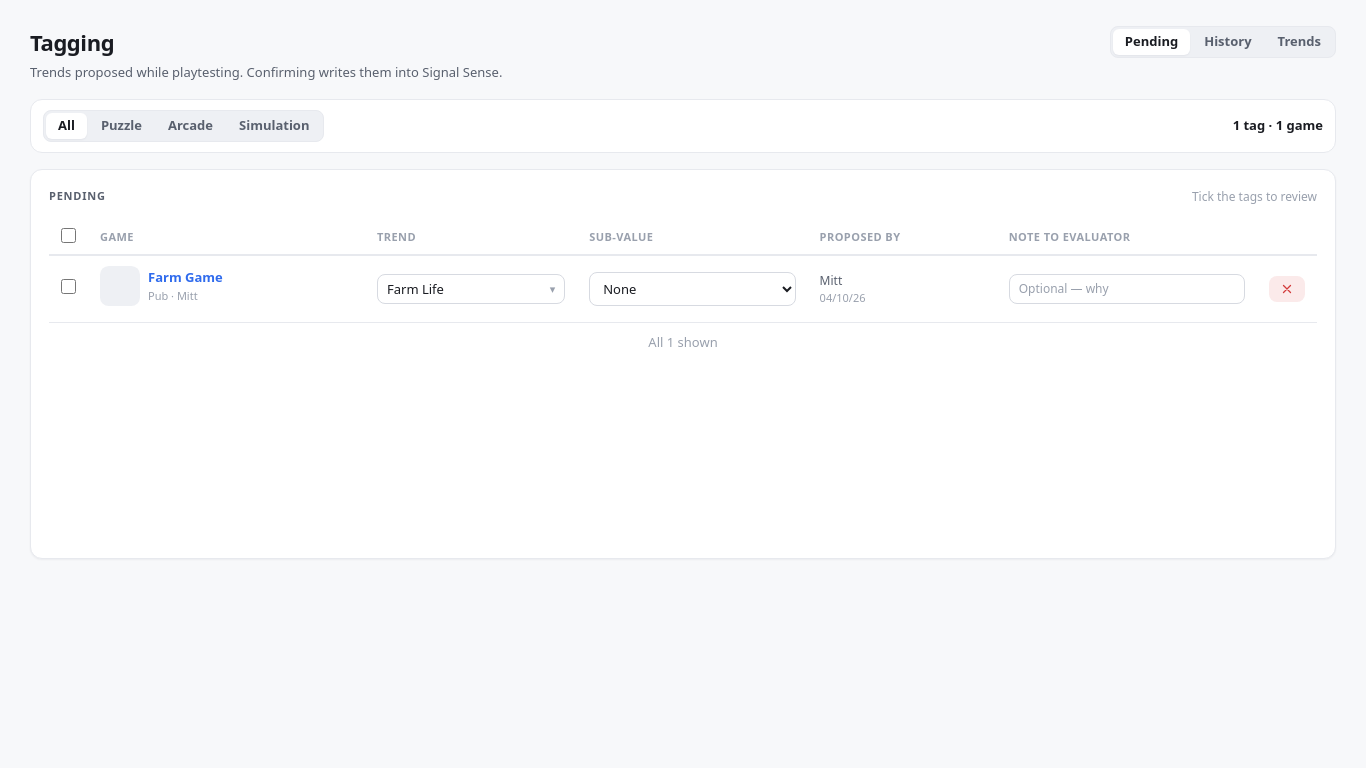
Test: Tagging > Category group filter and the selection › drops ticked rows when the category group changes
The width and height of the screenshot is (1366, 768).
Expected: the button "Farm Game" is shown, [148,268,223,288]
What coordinates should you click on to do the following:
click the checkbox named "Select Farm Life on Farm Game"
I would click on:
 (68, 286)
Its box is [61,278,76,294].
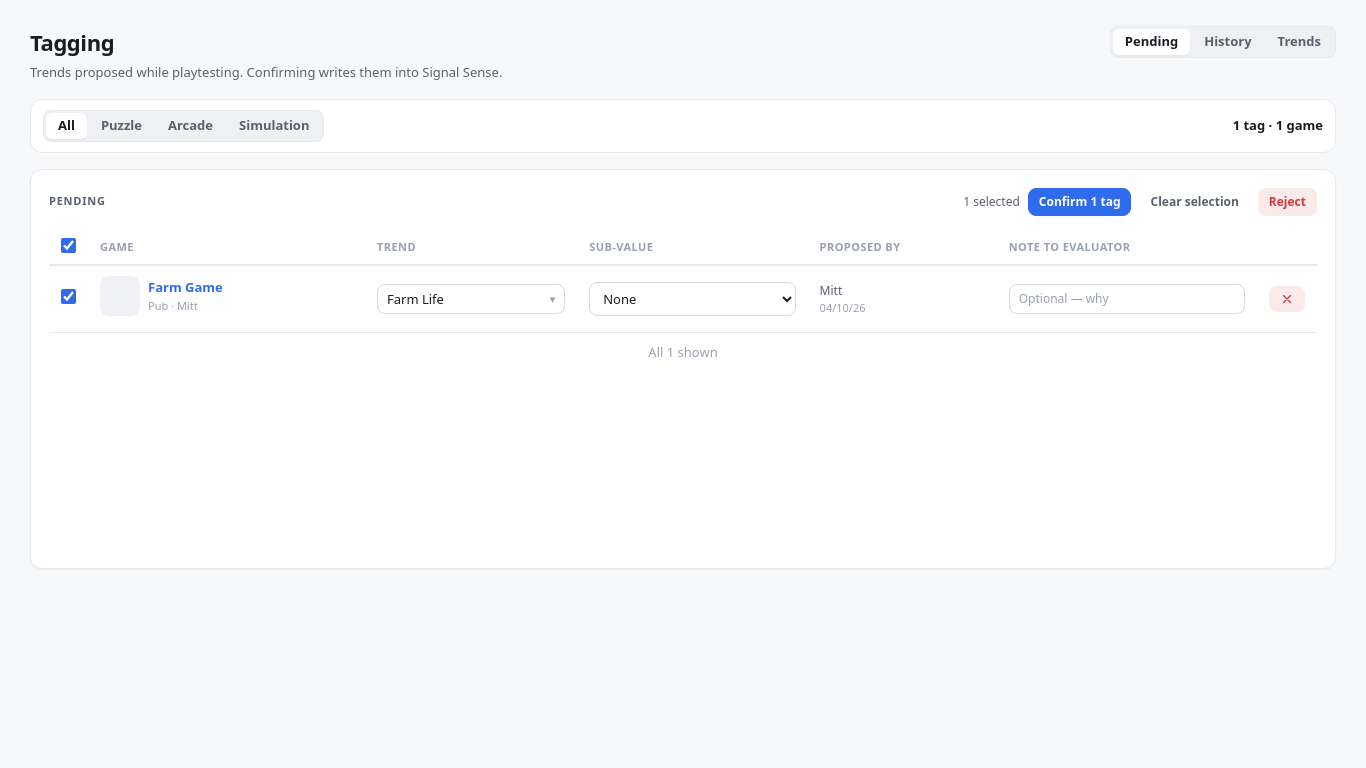
Expected: the button "Confirm 1 tag" is shown, [1028,188,1132,216]
What coordinates should you click on to do the following:
click the button "Puzzle"
I would click on:
 (121, 126)
Its box is [89,112,154,138].
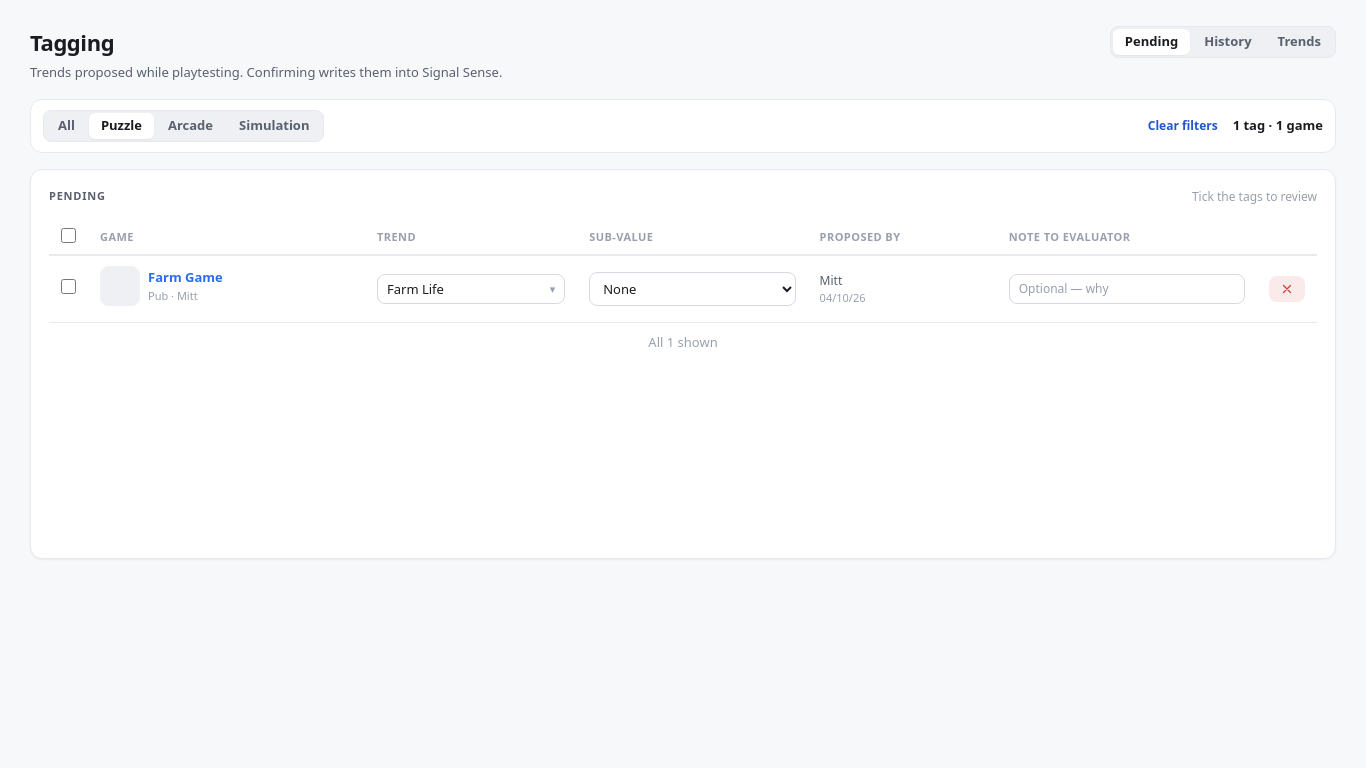
Expected: the button "Confirm 1 tag" is gone
